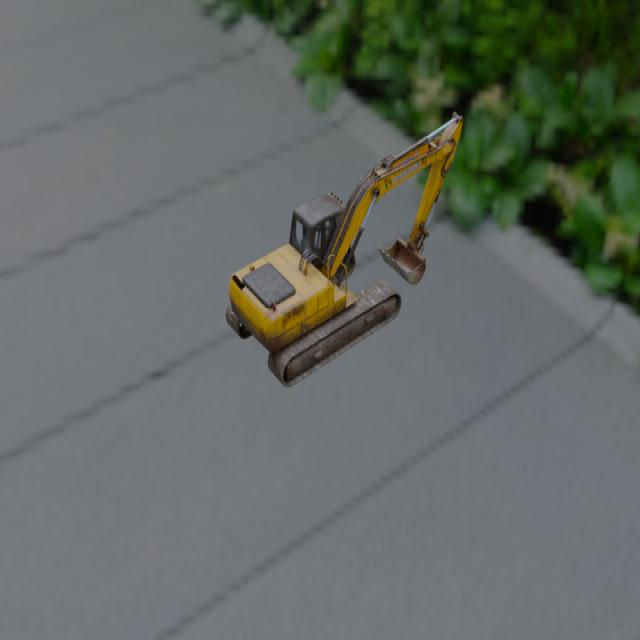excavator: (225, 111, 463, 388)
